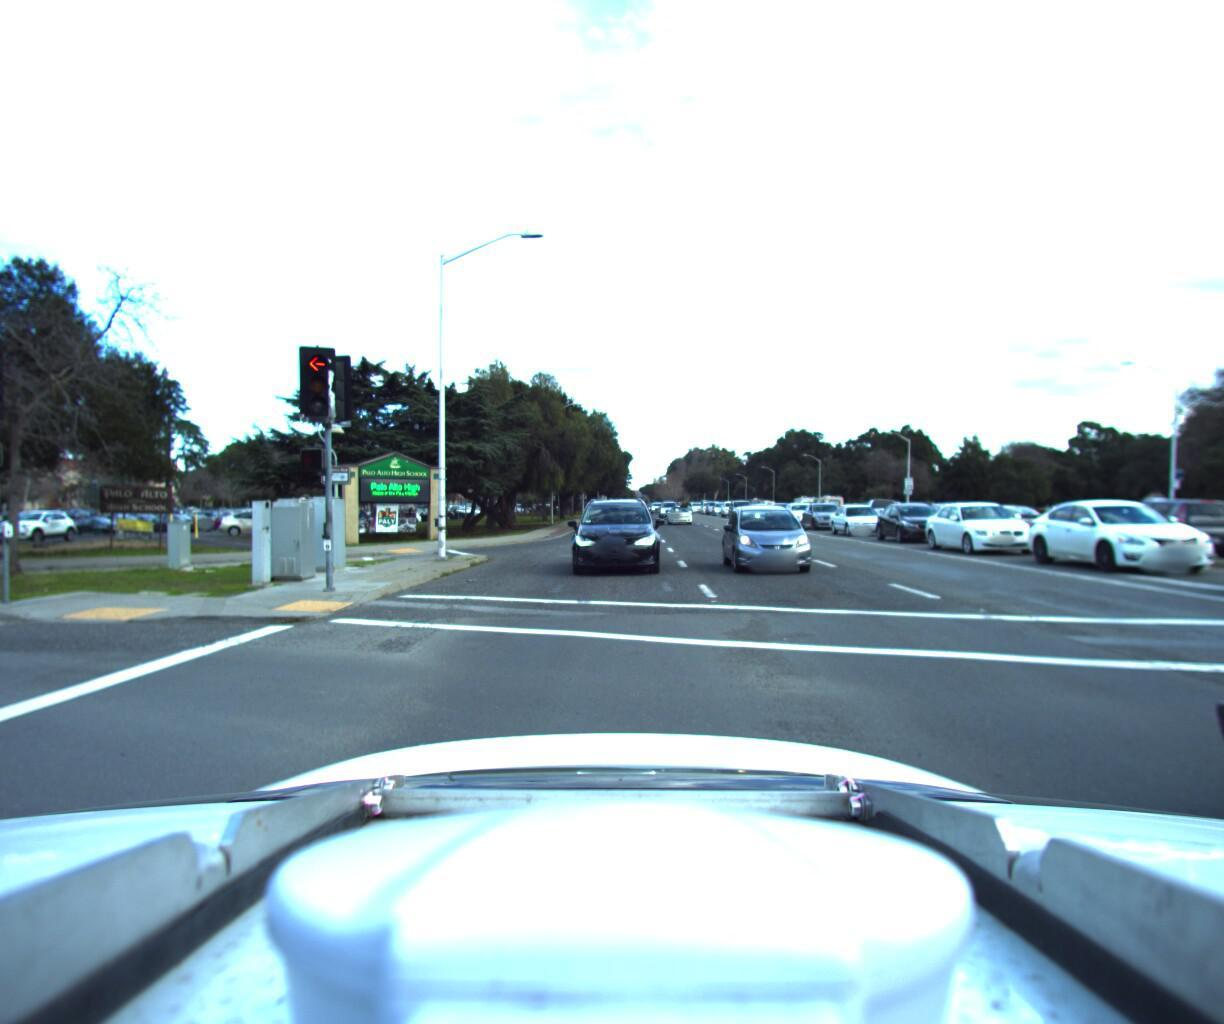car: (1013, 491, 1224, 568), (1078, 483, 1212, 541), (721, 495, 819, 573), (564, 491, 654, 574), (920, 493, 1048, 549), (869, 493, 952, 535), (954, 497, 1043, 533), (825, 495, 892, 529), (969, 494, 1031, 524), (850, 491, 902, 522), (798, 494, 850, 523), (1216, 470, 1224, 625), (665, 496, 693, 518), (725, 493, 751, 513), (657, 501, 678, 518)
